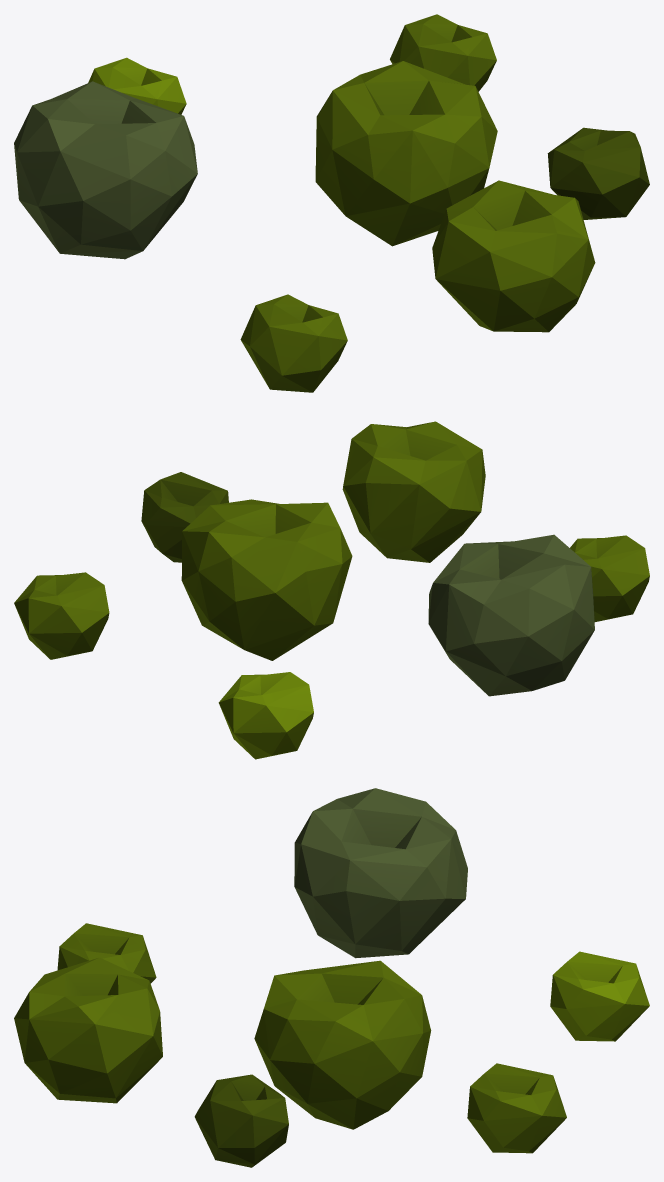
File: swamp_lily_b_low.glb
The picture shows the model from 3 angles, top to bottom: view 1: azimuth 30°, elevation 25°; view 2: azimuth 150°, elevation 25°; view 3: azimuth 270°, elevation 25°; orthographic projection. The views are drawn at different scales.
Bounding box in the file's own units: 0.8682 × 0.286 × 0.9345.
